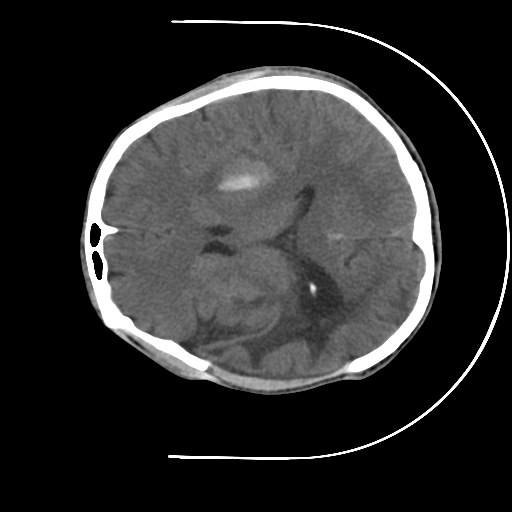a: (185, 141, 291, 210)
